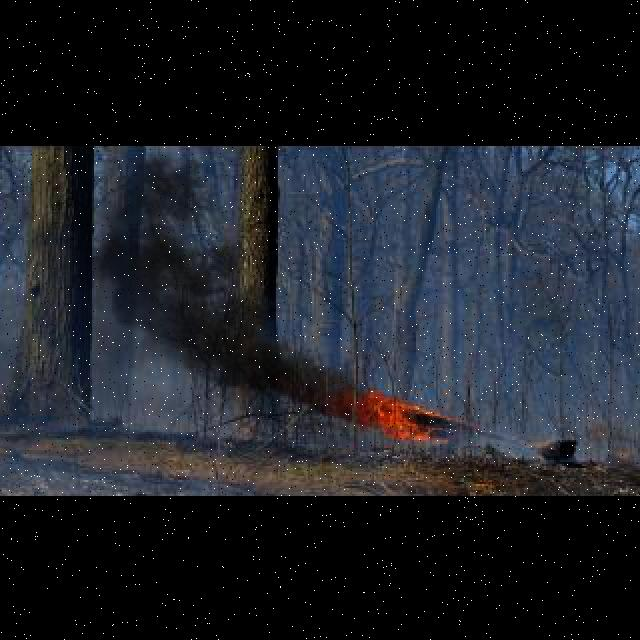fire: (358, 383, 460, 443)
smoke: (106, 156, 353, 417)
